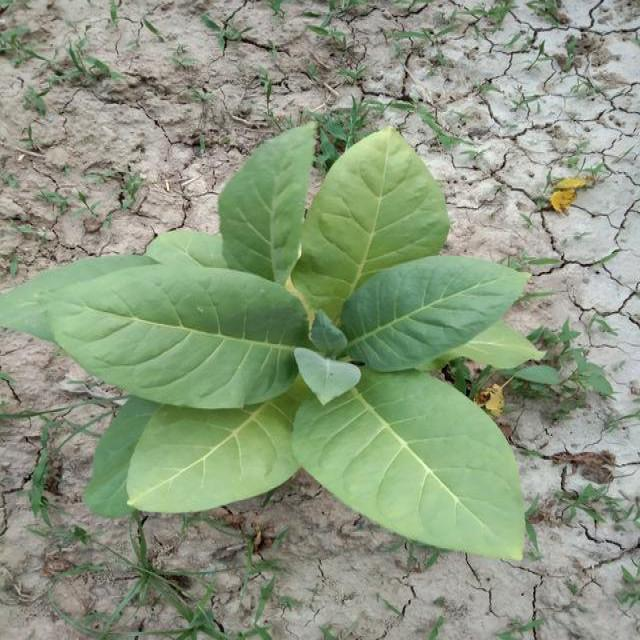crop: (6, 125, 538, 592)
